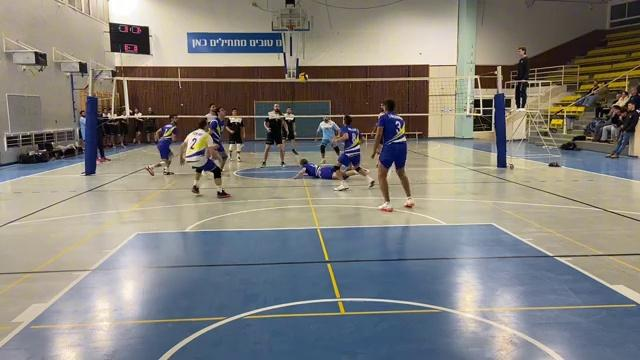ball: (300, 73, 311, 83)
